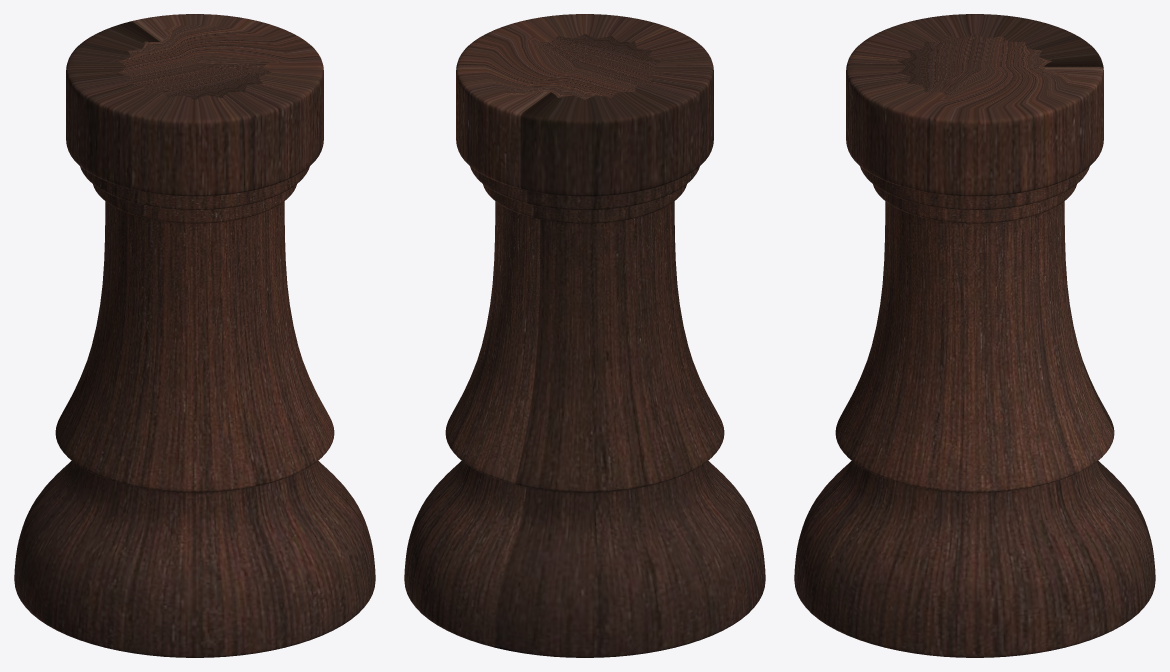
File: BLACK_ROOK.glb
3 renders of one model, left to right at view 1: azimuth 30°, elevation 25°; view 2: azimuth 150°, elevation 25°; view 3: azimuth 270°, elevation 25°, orthographic.
Parts seen in each view (by area): view 1: Cylinder003; view 2: Cylinder003; view 3: Cylinder003.
Boxes of the visible parts, x1,y1,x2,y2 form: Cylinder003: [14, 14, 375, 657]; Cylinder003: [404, 14, 765, 657]; Cylinder003: [794, 14, 1155, 657].
Size of the model in its own units: 0.6752 by 1.06 by 0.6752.
1 material, 1 textured.
